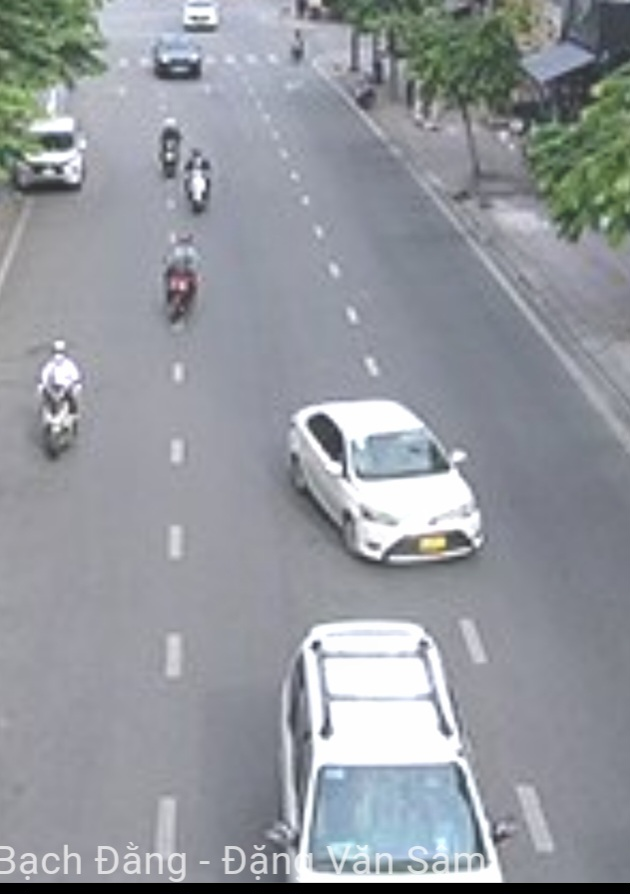car: (270, 617, 502, 879), (282, 392, 487, 567), (15, 113, 86, 194), (149, 32, 206, 85)
